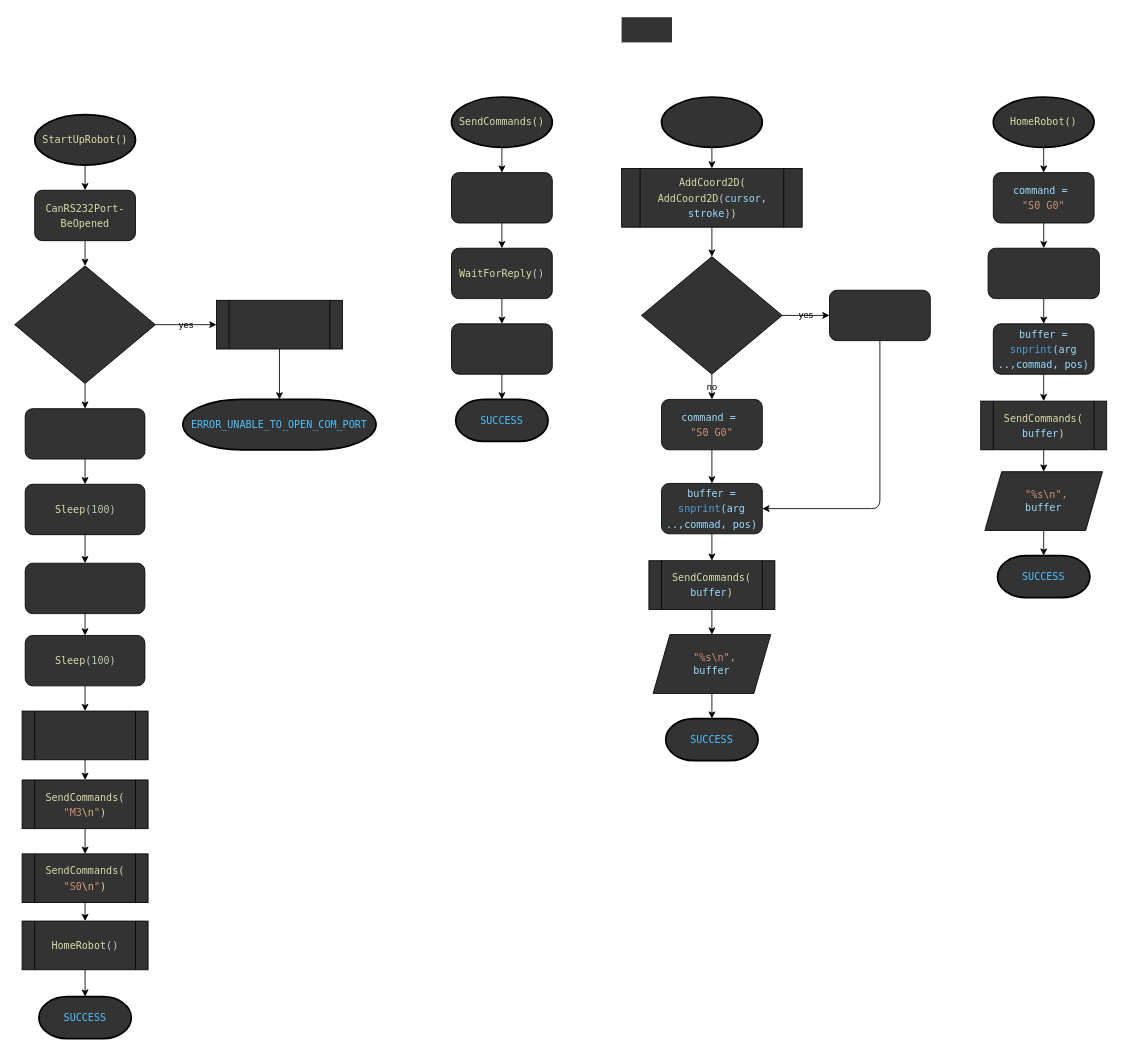
Some shapes in this 1121 by 1053 pixel diagram are drawn without their labels. The centre of each missing label's shape, as x and y in pixels:
command = "S1000 G1": point (879, 315)
ErrorHandler (): point (279, 324)
if( CanRS232Port-BeOpened () == -1 ): point (84, 324)
if( stroke . pen_state ): point (711, 315)
pos = HOME_X_VALUE_MM, HOME_Y_VALUE_MM: point (1043, 273)
PrintBuffer ( & buffer [ 0 ]): point (501, 197)
PrintBuffer( " \n "): point (84, 433)
Robot.c: point (646, 29)
SendCommands( "G1 X0 Y0 F1000 \n " ): point (84, 735)
SendStoke (): point (711, 122)
Sleep(1): point (501, 348)
WaitForDollar (): point (84, 588)
